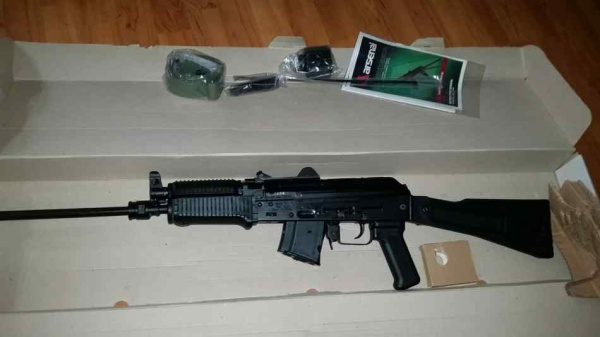ak47: (1, 167, 552, 294)
